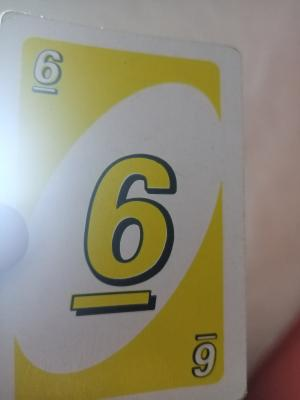num_6: (54, 148, 183, 349), (16, 33, 87, 140), (193, 317, 223, 387)
